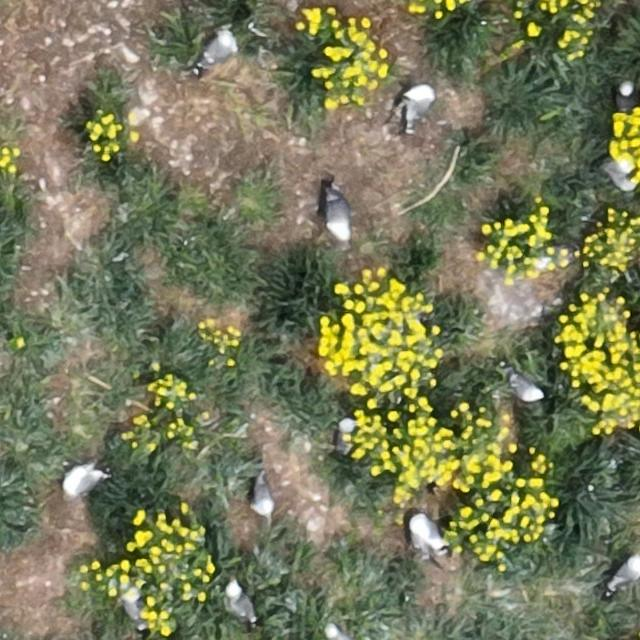umineko: (202, 33, 236, 65), (412, 518, 442, 552), (326, 196, 349, 240), (228, 584, 253, 622), (405, 86, 432, 121), (66, 467, 102, 493), (611, 556, 640, 587), (509, 373, 541, 401), (252, 479, 272, 514), (617, 82, 636, 110), (337, 418, 353, 450), (327, 625, 354, 639)
